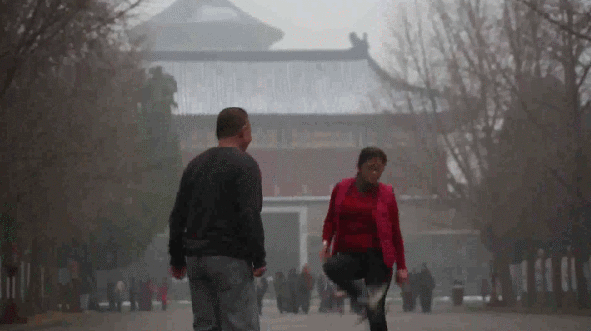person: (166, 106, 266, 331), (322, 146, 408, 331), (416, 262, 434, 314), (297, 264, 315, 315), (249, 267, 267, 316), (316, 269, 333, 313), (285, 268, 300, 314), (273, 271, 289, 314), (405, 267, 419, 309), (401, 271, 415, 312), (114, 276, 125, 312), (144, 279, 156, 311), (128, 277, 139, 311), (157, 282, 169, 311), (136, 279, 145, 311), (106, 279, 115, 311)
